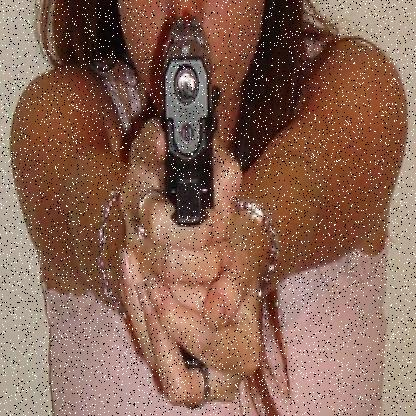pistol: (160, 18, 221, 233)
